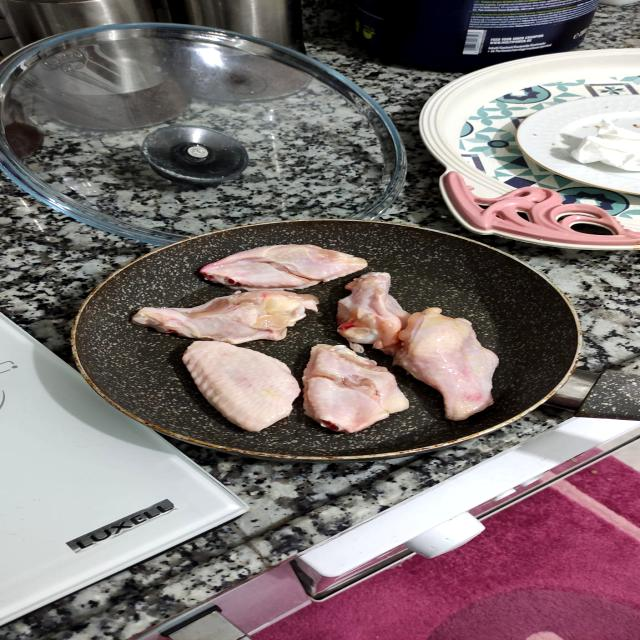chicken: (388, 305, 528, 427), (176, 331, 307, 440), (290, 336, 420, 438), (122, 286, 322, 346), (195, 235, 378, 294), (326, 264, 410, 350)
